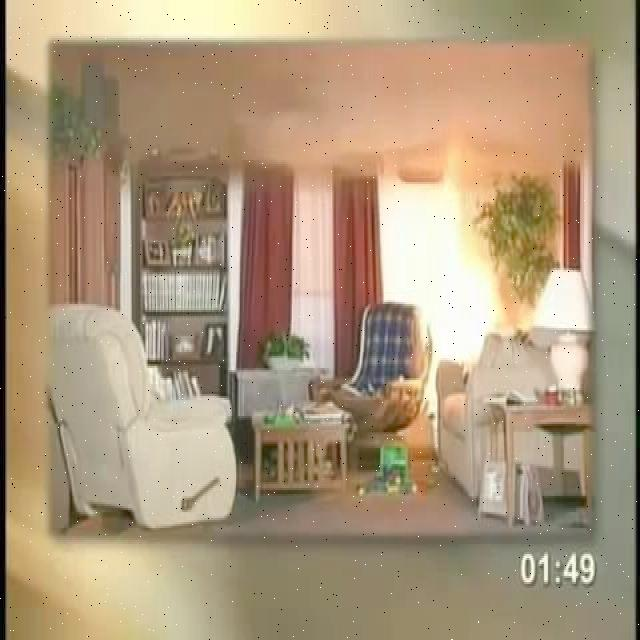fire: (424, 133, 505, 402)
